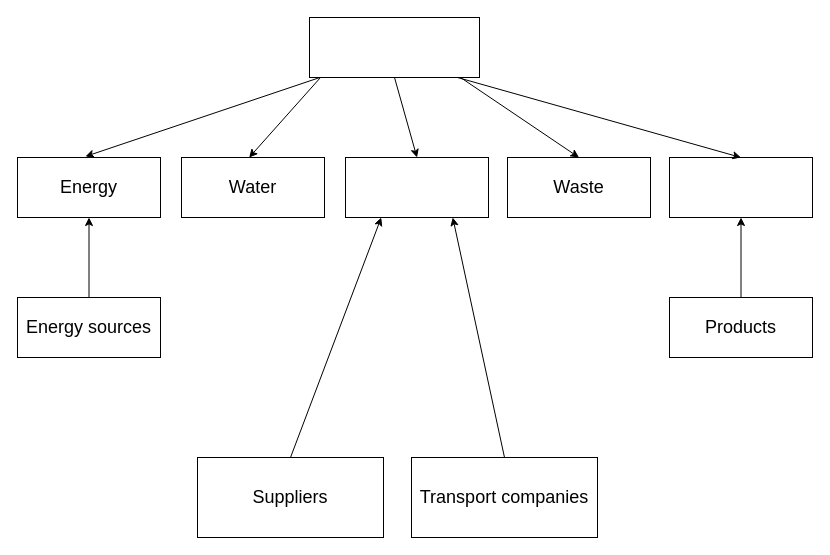
This 830x555 diagram has some shape labels left out. Each missing label, with the centre of its shape:
"Production" goes at [740,187].
"Sites" goes at [394,47].
"Transport" goes at [416,187].
